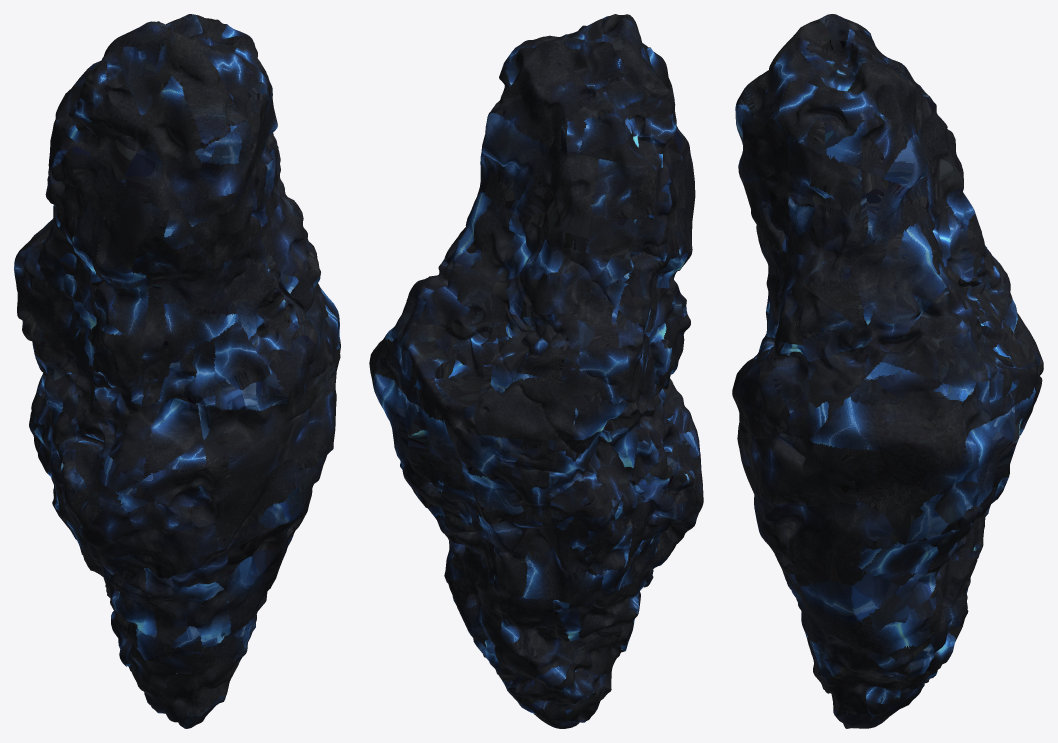
The model's file is shard-05-low.glb.
3 renders of one model, left to right at view 1: azimuth 30°, elevation 25°; view 2: azimuth 150°, elevation 25°; view 3: azimuth 270°, elevation 25°, orthographic. The views are drawn at different scales.
Parts seen in each view (by area): view 1: Mesh_0; view 2: Mesh_0; view 3: Mesh_0.
Boxes of the visible parts, box(x1,y1,x2,y2) form: Mesh_0: box(14, 14, 340, 728); Mesh_0: box(369, 14, 703, 728); Mesh_0: box(732, 14, 1043, 728).
Bounding box in the file's own units: 0.7924 × 1.9 × 0.7749.
Materials: 1 (1 with a texture image).
